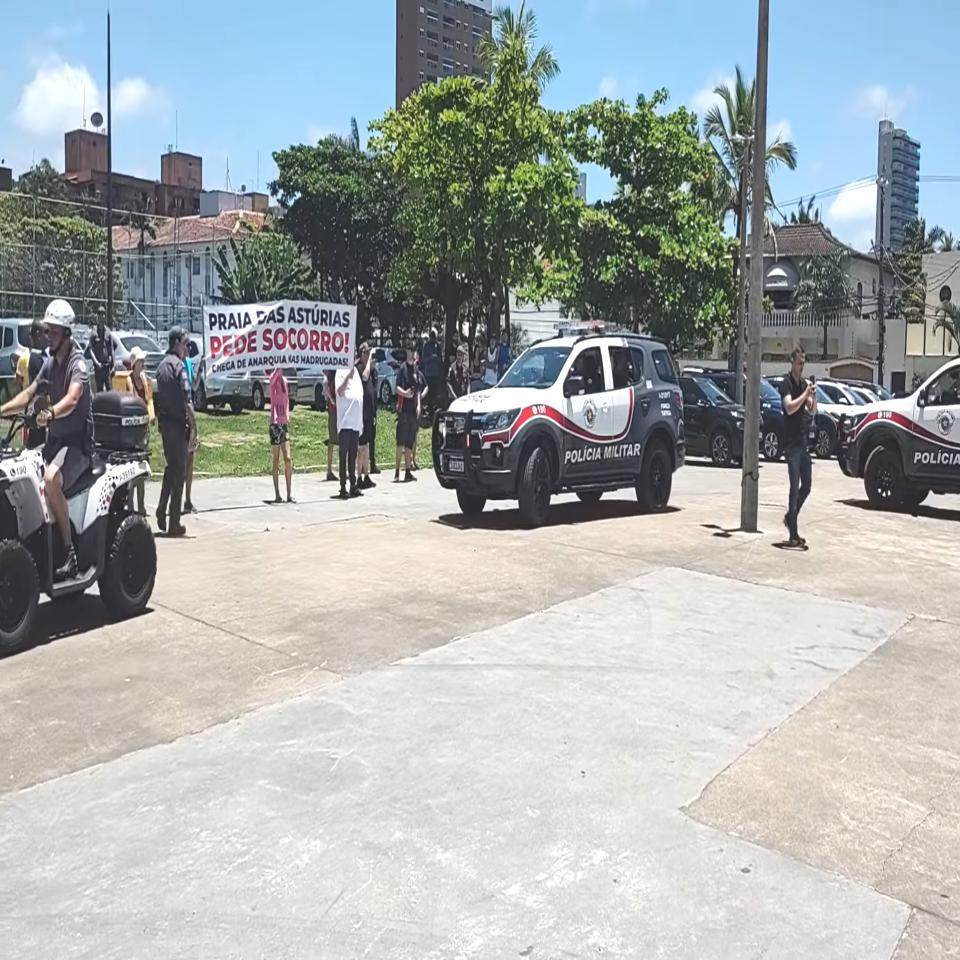viatura: (432, 318, 690, 530)
